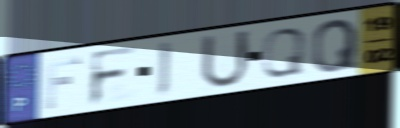F: (87, 44, 140, 109), (43, 54, 83, 112)
I: (155, 39, 174, 100)
Q: (310, 16, 360, 75), (259, 26, 309, 80)
U: (198, 28, 253, 91)
